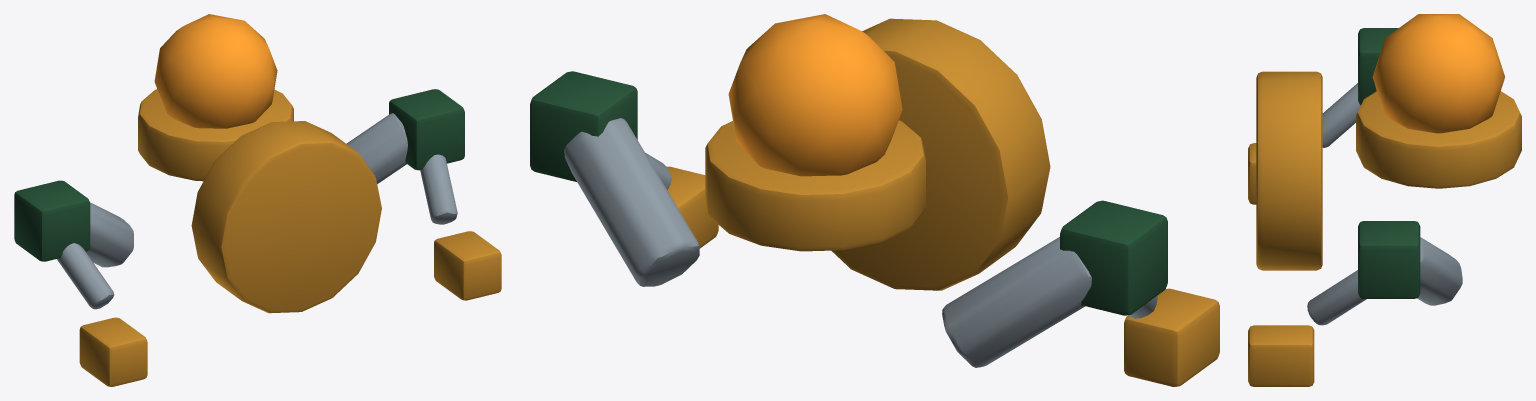
File: MenderA1.obj
3 views of the same model, side by side, from view 1: azimuth 30°, elevation 25°; view 2: azimuth 150°, elevation 25°; view 3: azimuth 270°, elevation 25° (orthographic). The views are drawn at different scales.
Parts seen in each view (by area): view 1: MenderA1; view 2: MenderA1; view 3: MenderA1.
Boxes of the visible parts, x1,y1,x2,y2 form: MenderA1: (14, 14, 501, 386); MenderA1: (530, 14, 1219, 386); MenderA1: (1248, 14, 1521, 386).
Size of the model in its own units: 1.25 by 0.72 by 0.66.
